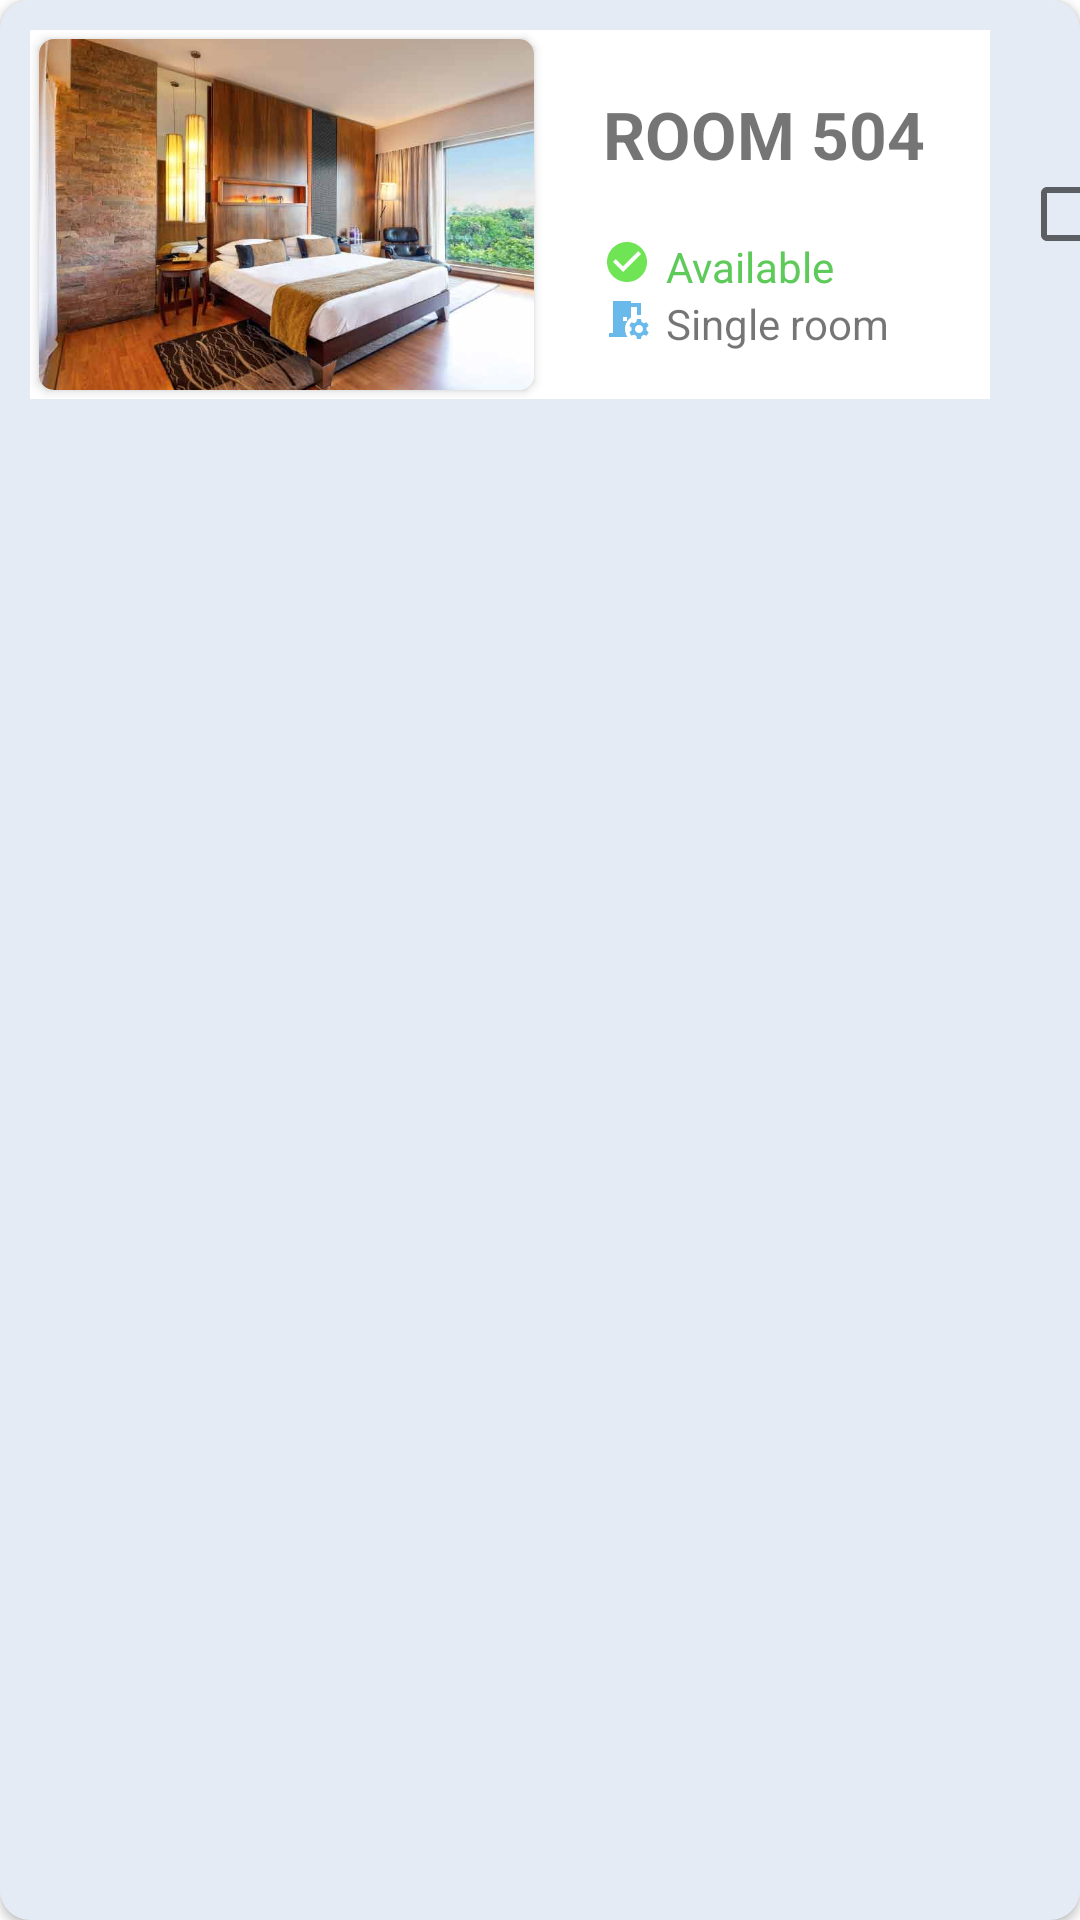

Icons on this 1080×1920 Android screen, each with the point to tap as (x=x, y=y):
check circle: (x=627, y=262)
